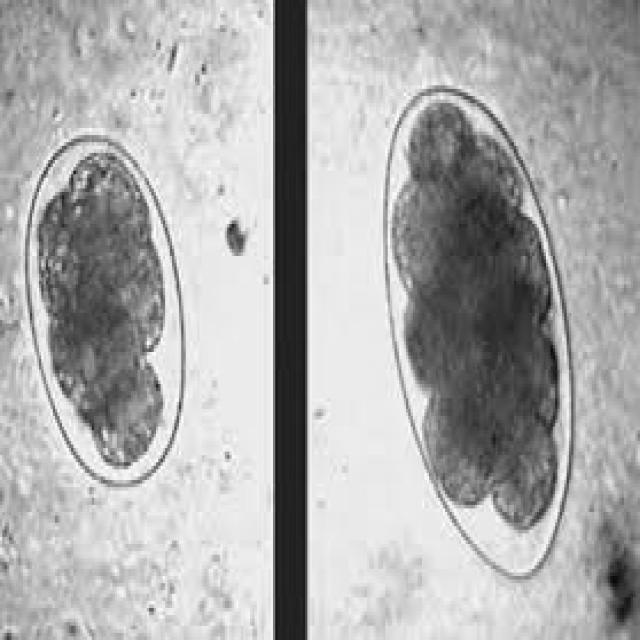Ancylostoma Spp: (369, 62, 583, 592), (18, 108, 198, 510)
